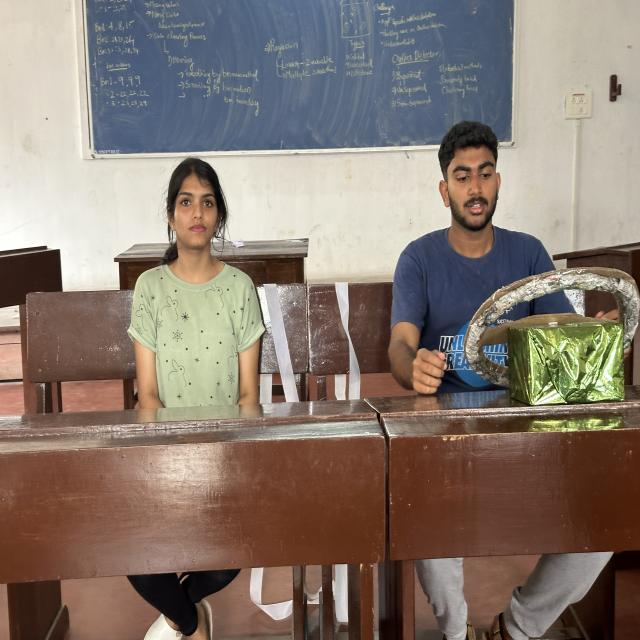no-seatbelt: (387, 221, 577, 397), (122, 252, 268, 407)
